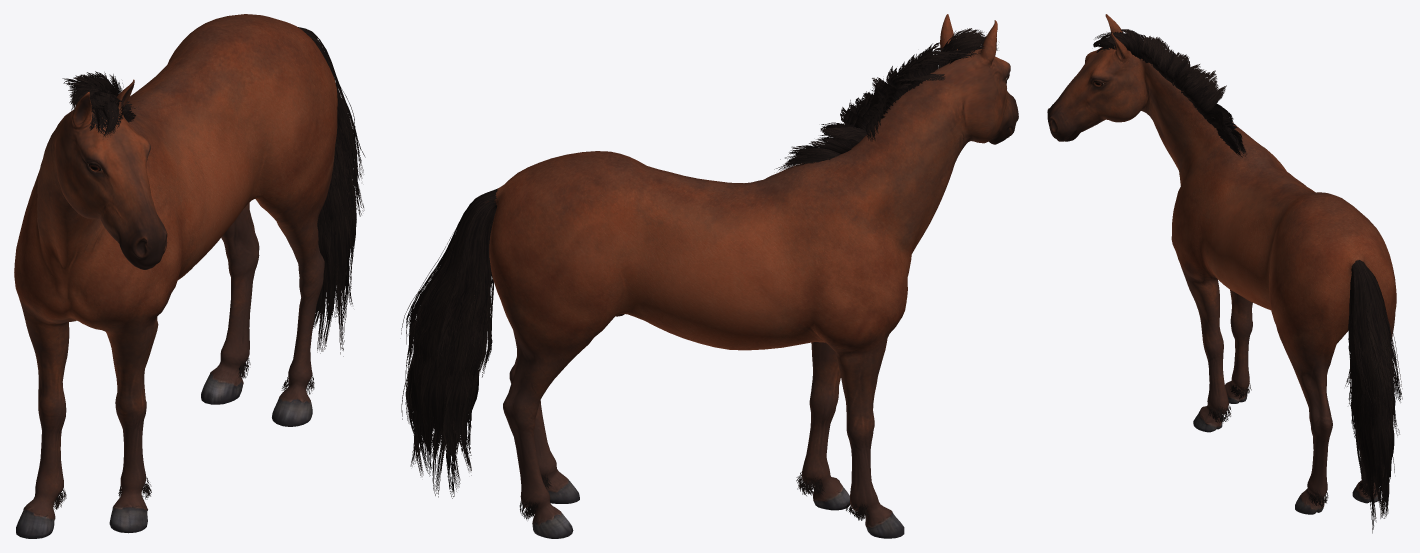
File: horse.gltf
3 views of the same model, side by side, from view 1: azimuth 30°, elevation 25°; view 2: azimuth 150°, elevation 25°; view 3: azimuth 270°, elevation 25° (orthographic). The views are drawn at different scales.
Parts seen in each view (by area): view 1: node_id31_0, node_id33_3; view 2: node_id31_0, node_id33_3; view 3: node_id31_0, node_id33_3.
Boxes of the visible parts, x1,y1,x2,y2 form: node_id31_0: (14,14,337,538); node_id33_3: (53,27,365,509); node_id31_0: (466,14,1018,538); node_id33_3: (401,28,997,520); node_id31_0: (1047,14,1396,514); node_id33_3: (1093,29,1402,533).
Bounding box in the file's own units: 0.4241 × 0.4327 × 0.3759.
Materials: 2 (2 with a texture image).
